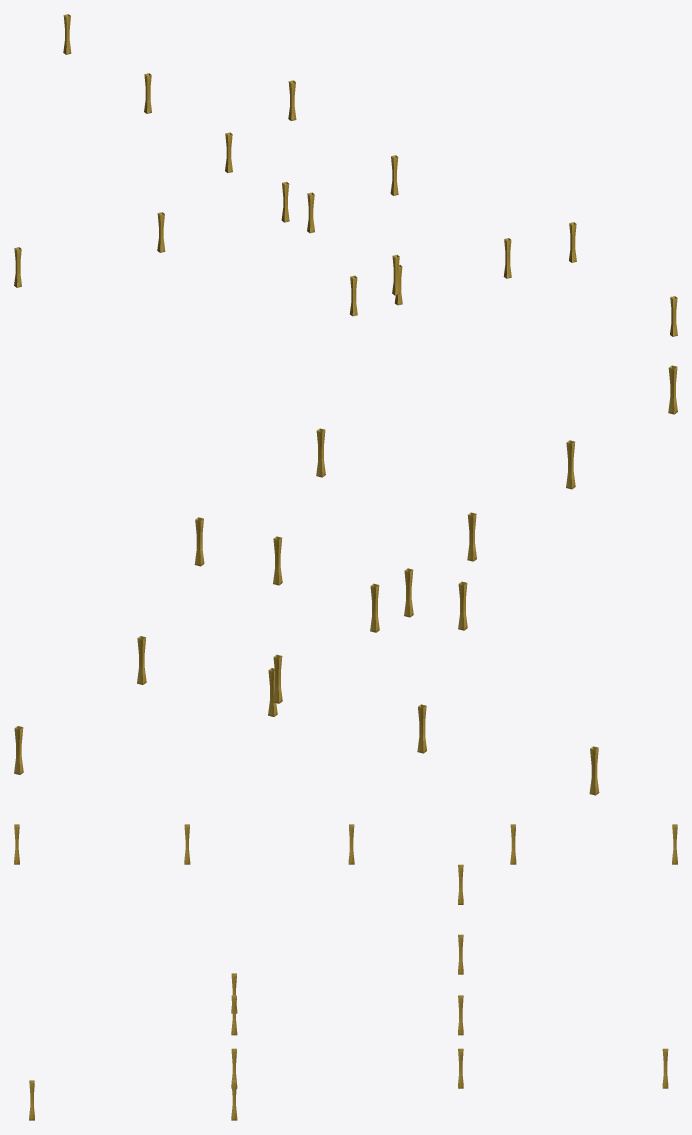
The model's file is HTOWN01_MILLRAILSUPPORTS.fbx.
3 views of the same model, one above another, from view 1: azimuth 30°, elevation 25°; view 2: azimuth 150°, elevation 25°; view 3: azimuth 270°, elevation 25° (orthographic). The views are drawn at different scales.
Visible parts, largest first — view 1: HTOWN01_MILLRAILSUPPORTS; view 2: HTOWN01_MILLRAILSUPPORTS; view 3: HTOWN01_MILLRAILSUPPORTS.
Boxes of the visible parts, x1,y1,x2,y2 form: HTOWN01_MILLRAILSUPPORTS: (14, 14, 677, 336); HTOWN01_MILLRAILSUPPORTS: (14, 365, 677, 795); HTOWN01_MILLRAILSUPPORTS: (14, 824, 677, 1120).
Bounding box in the file's own units: 97354 × 32106 × 125200.
Materials: 1 (1 with a texture image).
